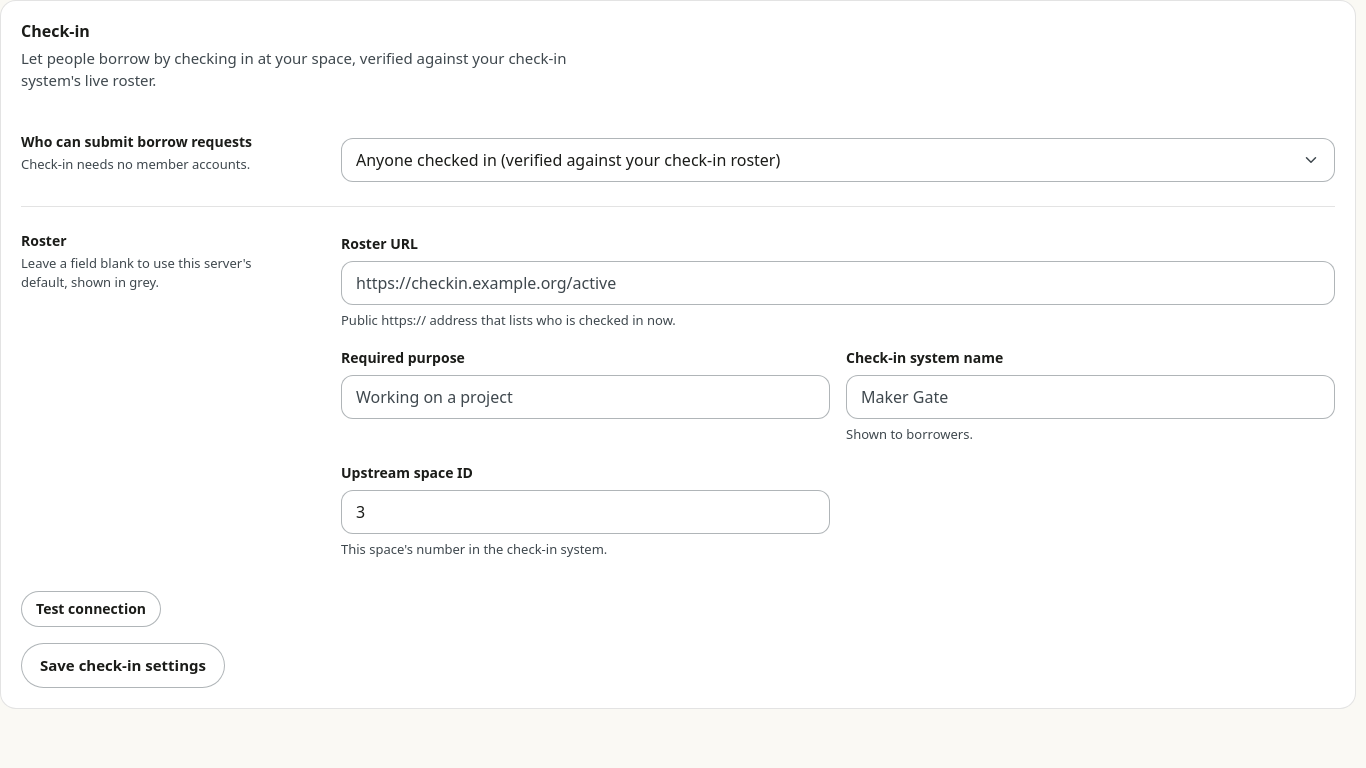
Test: Check-in settings card › tests the typed URL and explains a failure
The width and height of the screenshot is (1366, 768).
Step 1. Type "https://roster.example.net/now" into the field labelled "Roster URL" → (838, 283), box [341,261,1335,305]
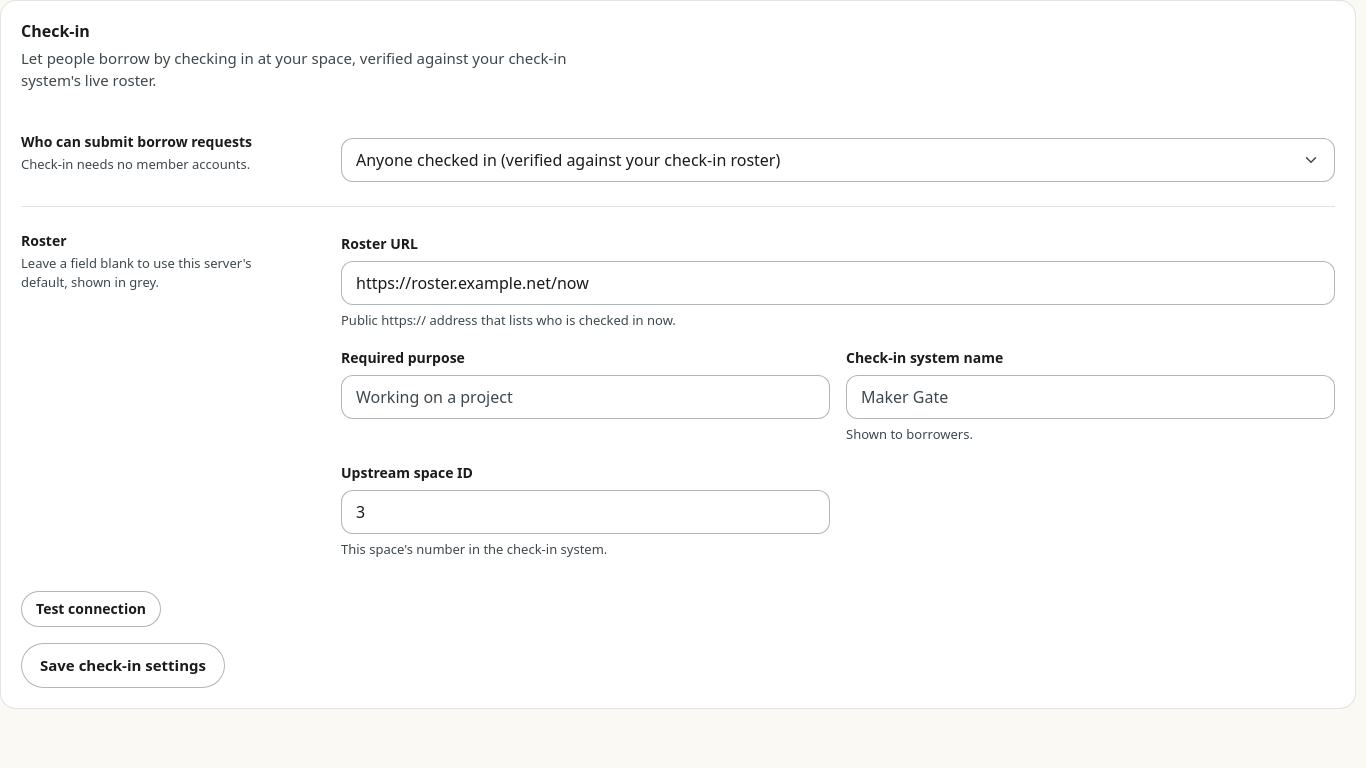
Step 2. Click the 1st button named "Test connection" → (91, 609), box [21,591,161,627]
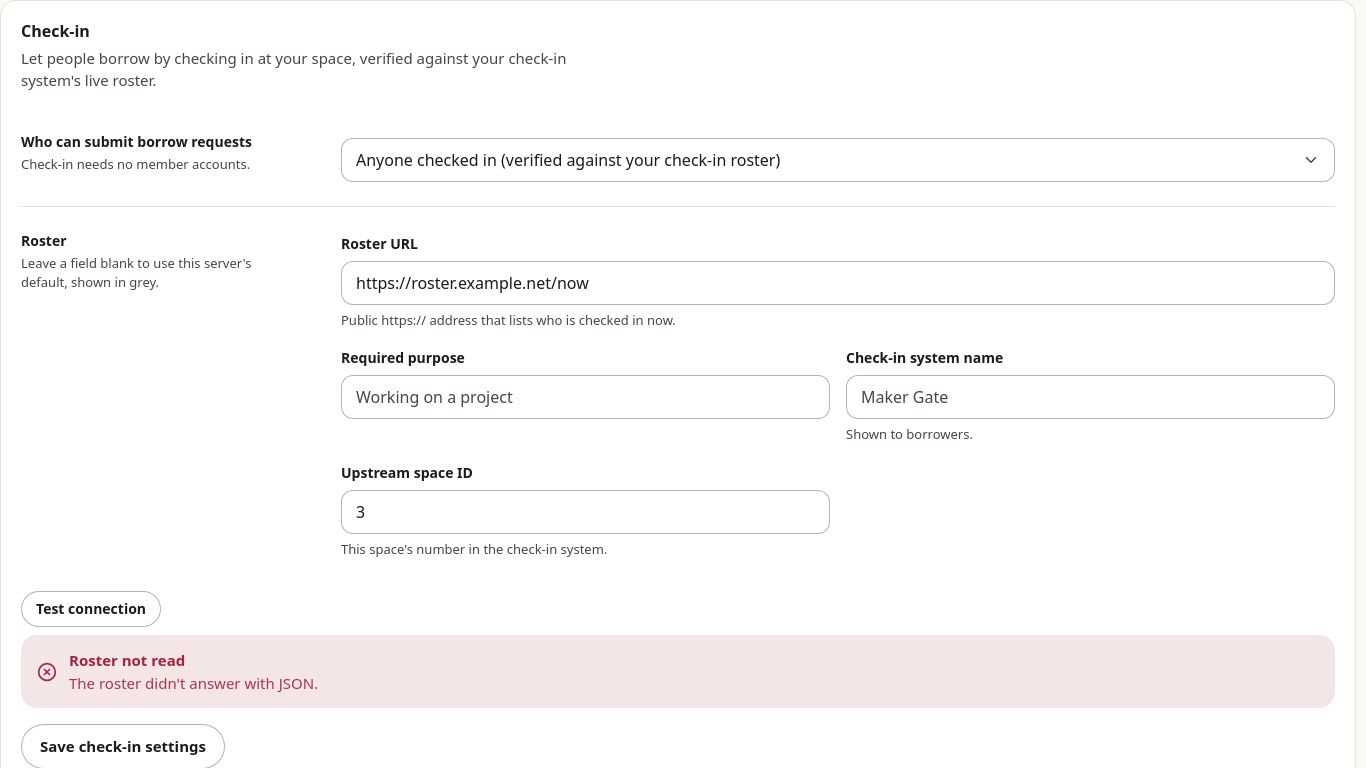
Result: the text "The roster didn't answer with JSON." is shown at [69,673,318,693]
